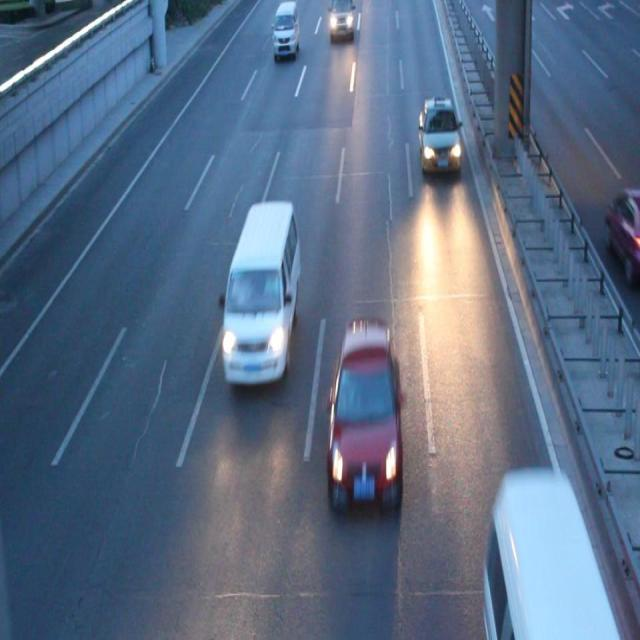car: (324, 322, 405, 518), (417, 97, 462, 177)
truck: (486, 473, 619, 640), (221, 199, 299, 386), (273, 1, 299, 57), (328, 1, 354, 37)
